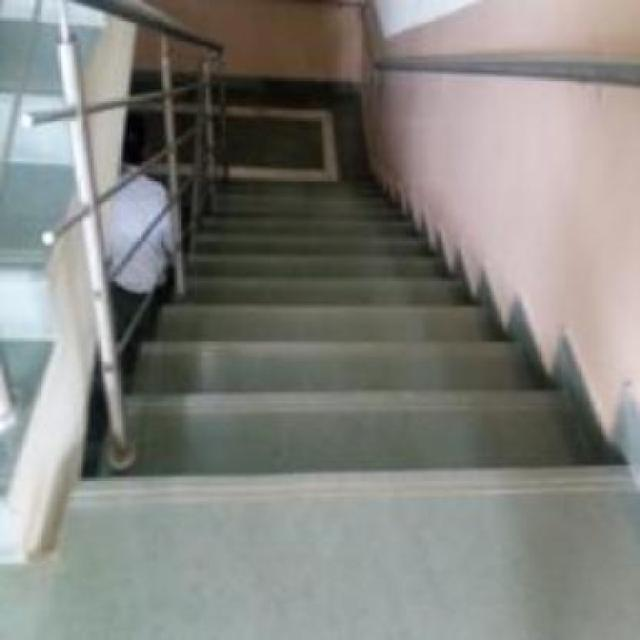stair: (96, 171, 635, 514)
